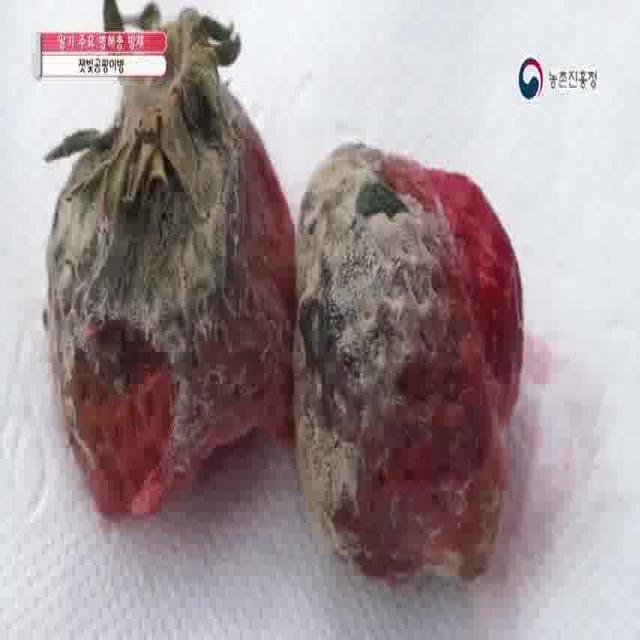Moho gris: (48, 6, 310, 524), (292, 137, 524, 586)
